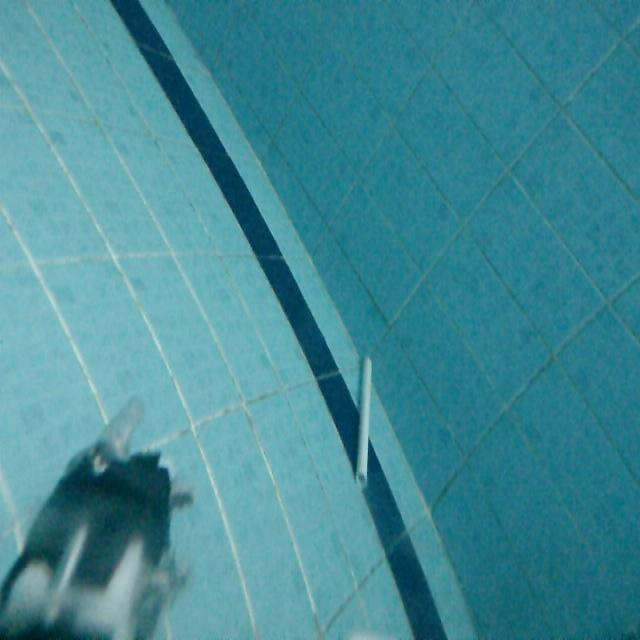Cube: (353, 351, 378, 488)
